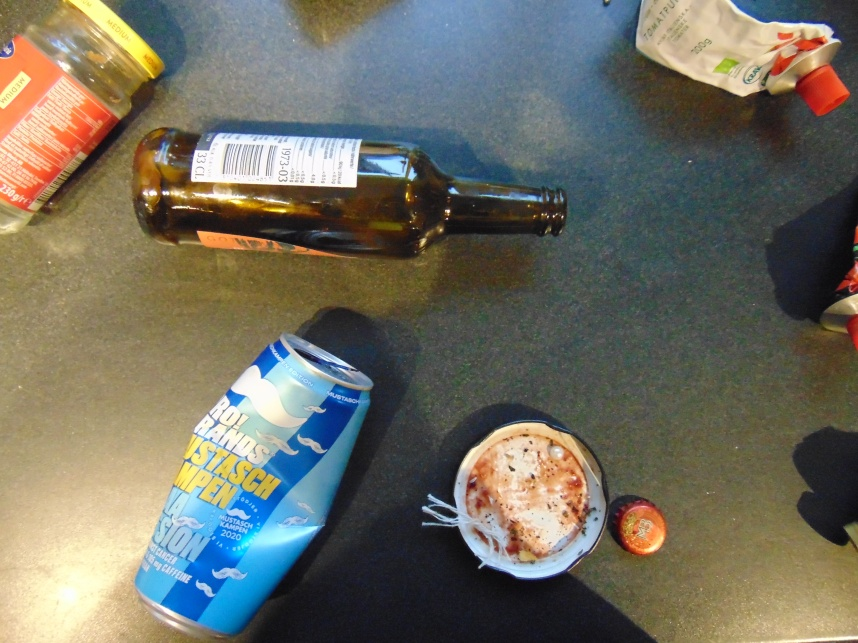glass_bottle: (131, 121, 569, 262), (1, 1, 165, 235)
metal: (452, 416, 610, 586), (632, 1, 840, 97), (820, 224, 858, 336), (616, 499, 669, 557)
metal_can: (133, 332, 373, 639)
